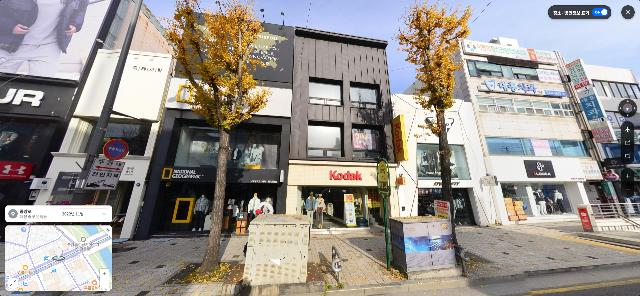ginkgo: (148, 0, 284, 274), (394, 0, 475, 257)
